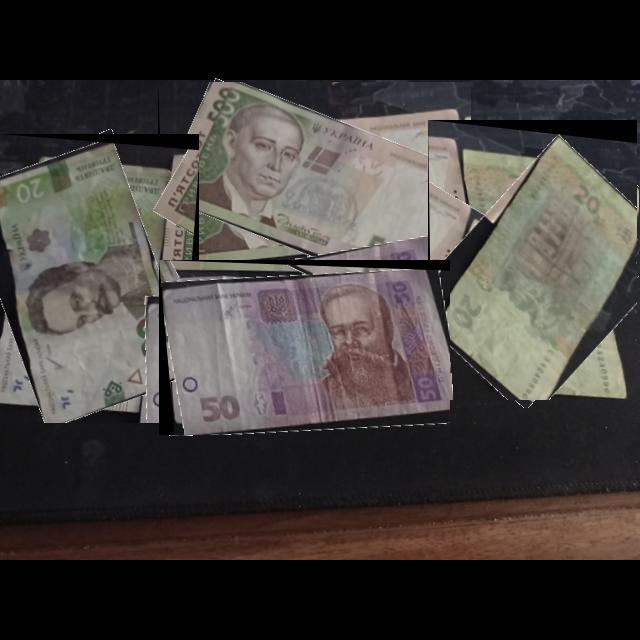20uah: (431, 132, 638, 401), (0, 142, 187, 425)
500uah: (162, 82, 472, 301)
50uah: (161, 268, 451, 436)
